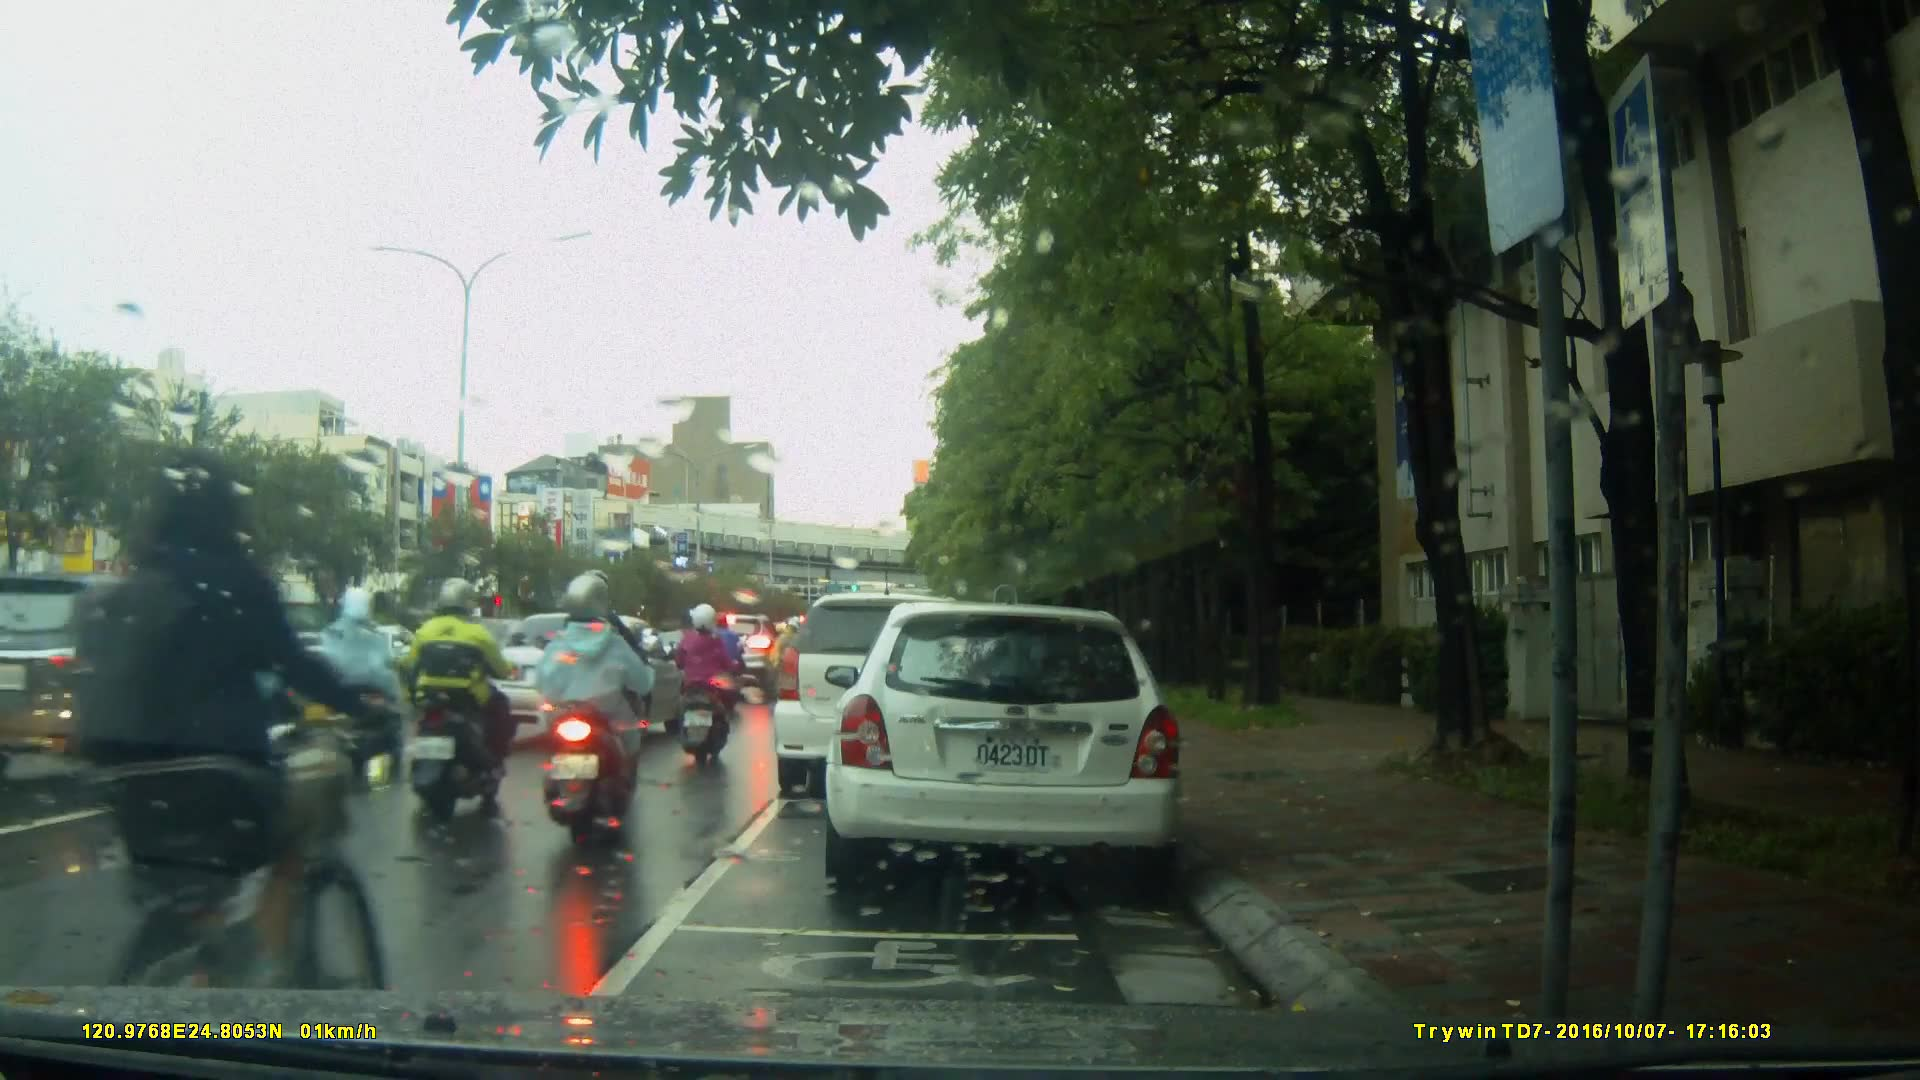rider: (99, 439, 388, 1057), (541, 570, 645, 851), (410, 575, 527, 813), (319, 580, 419, 775), (565, 572, 651, 792), (670, 606, 736, 774), (706, 610, 743, 698)
vehicle: (822, 604, 1188, 883), (774, 595, 995, 802), (485, 611, 690, 745), (686, 614, 791, 702)
